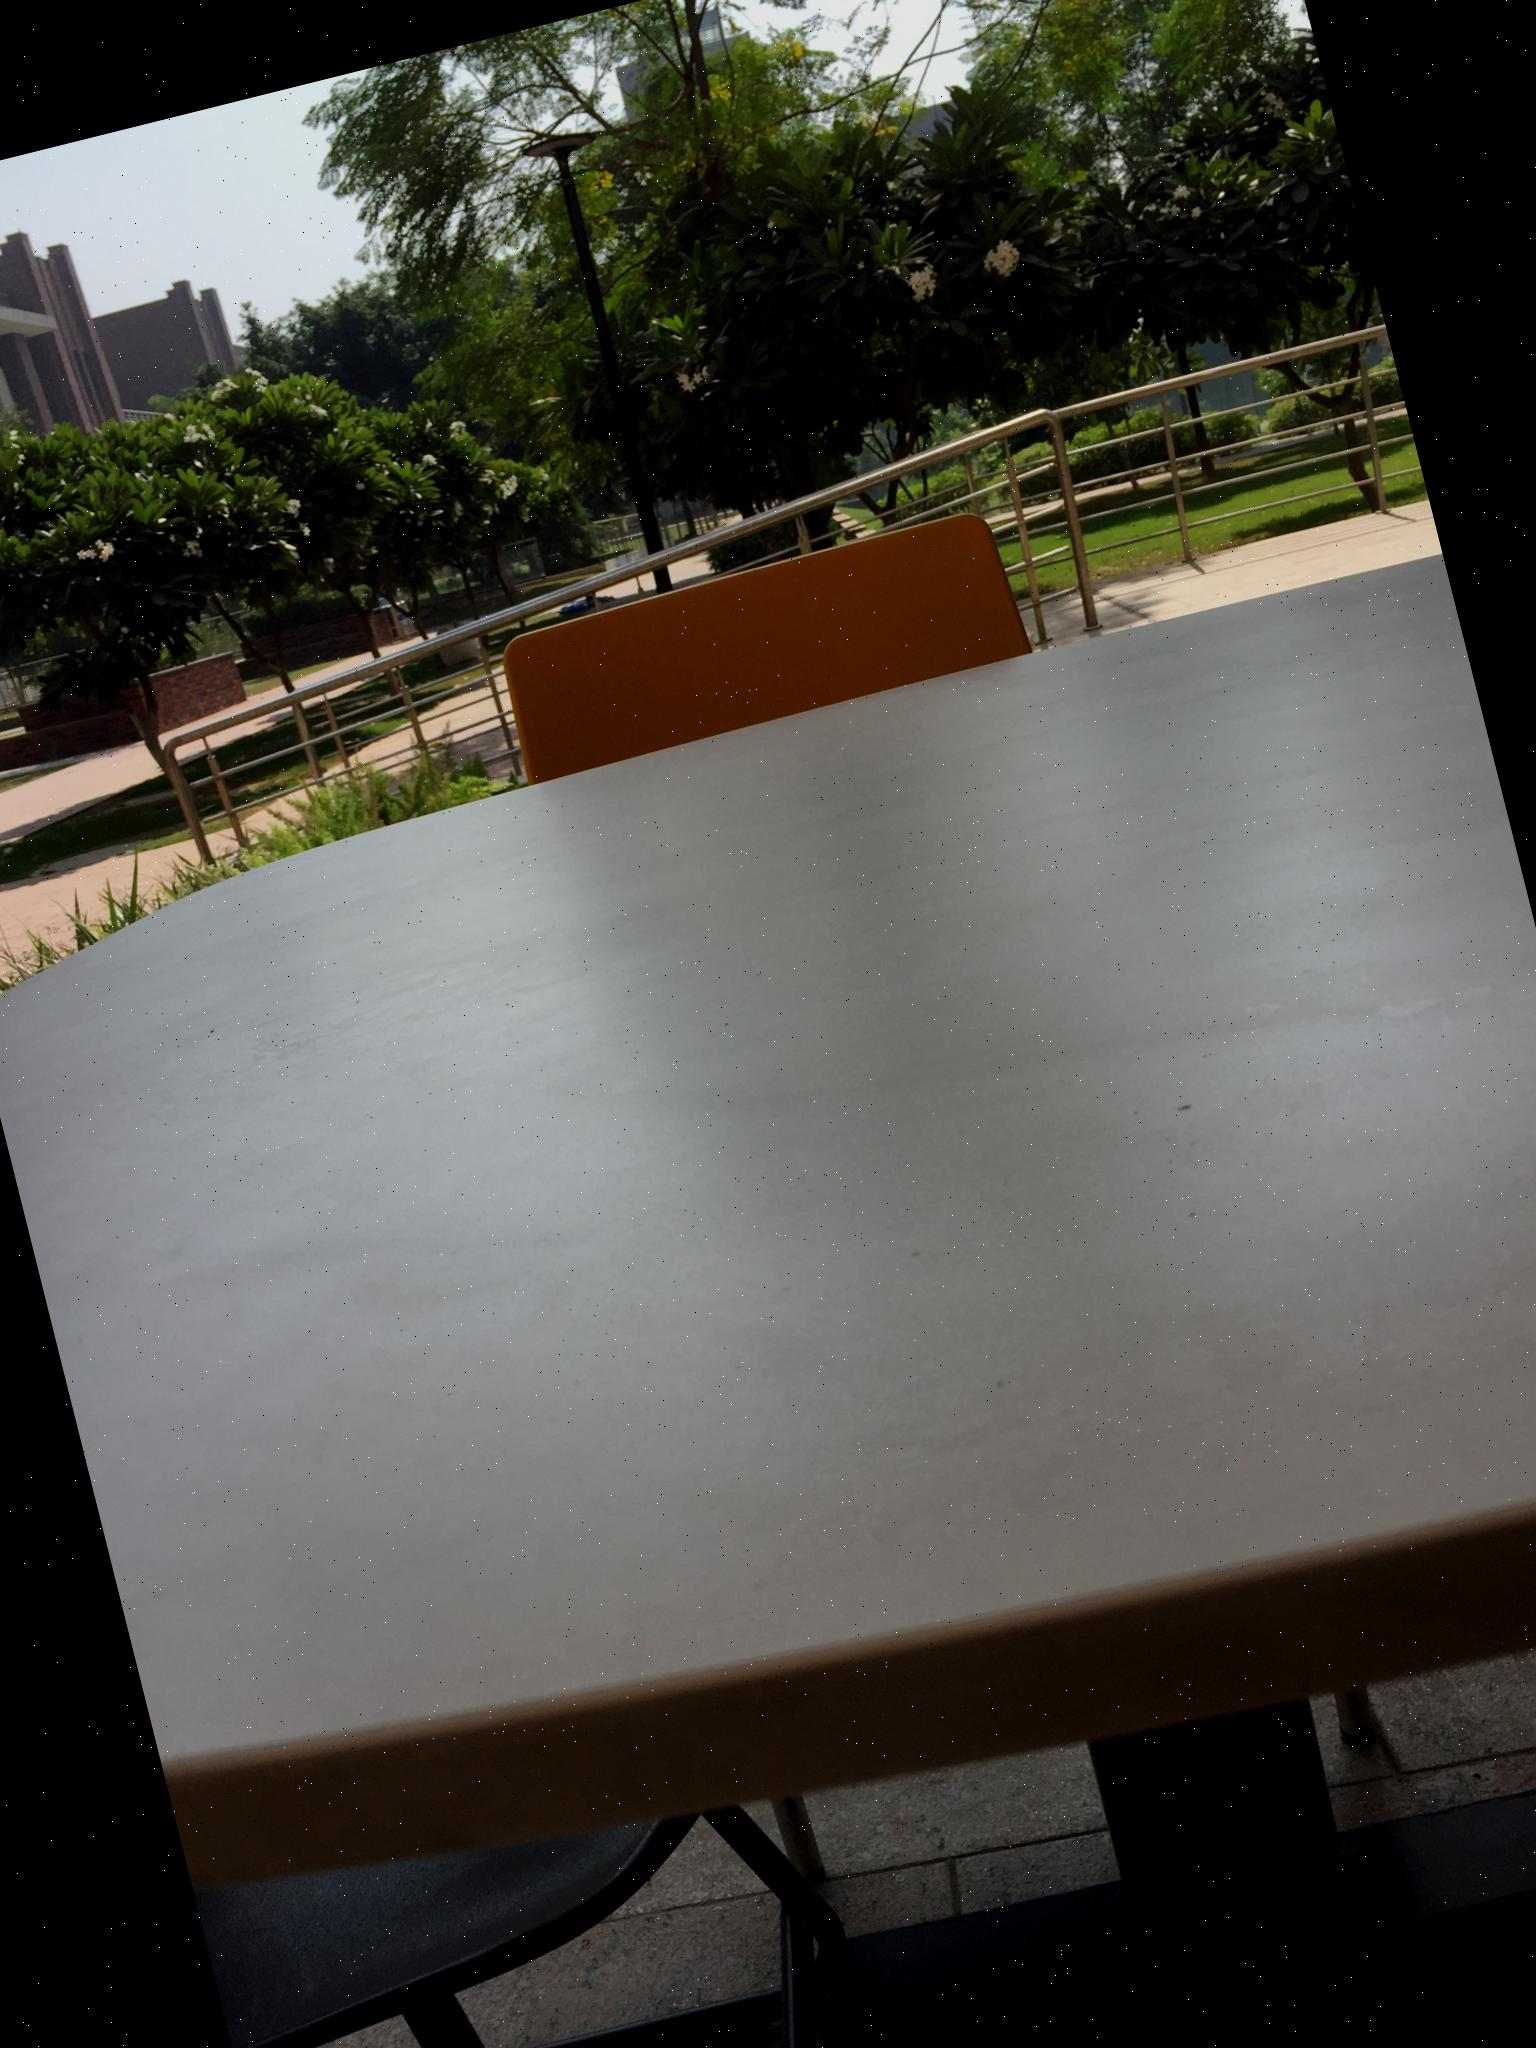chair: (124, 1464, 886, 2048), (489, 502, 1034, 784)
